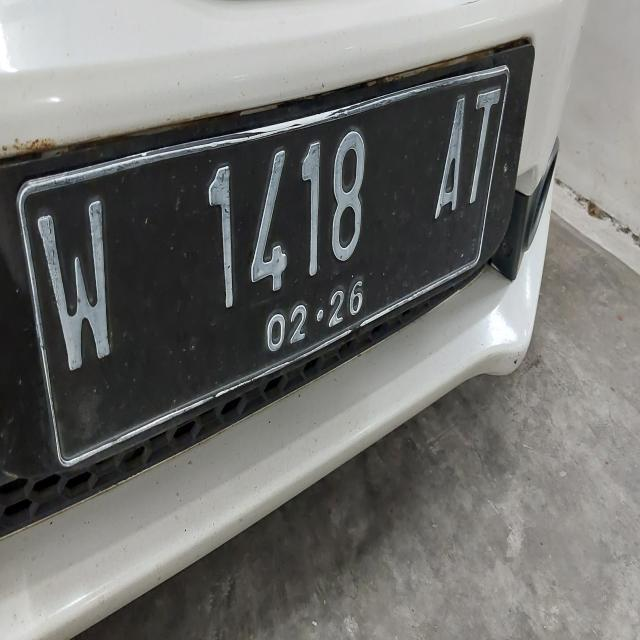1: (198, 158, 246, 318), (290, 132, 332, 298)
4: (245, 144, 289, 294)
8: (330, 123, 370, 277)
A: (433, 88, 470, 224)
T: (472, 80, 502, 219)
W: (32, 203, 130, 386)
